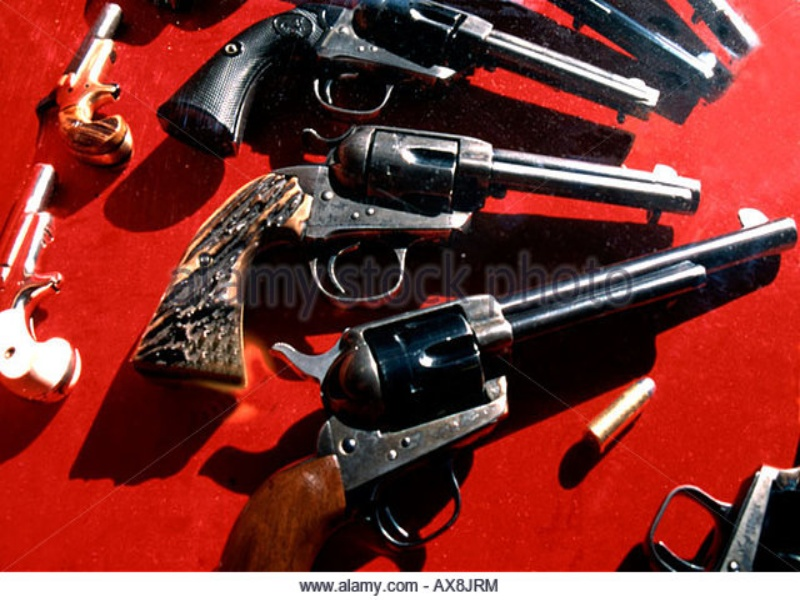gun: (245, 215, 799, 567), (132, 95, 700, 379), (153, 1, 661, 156)
